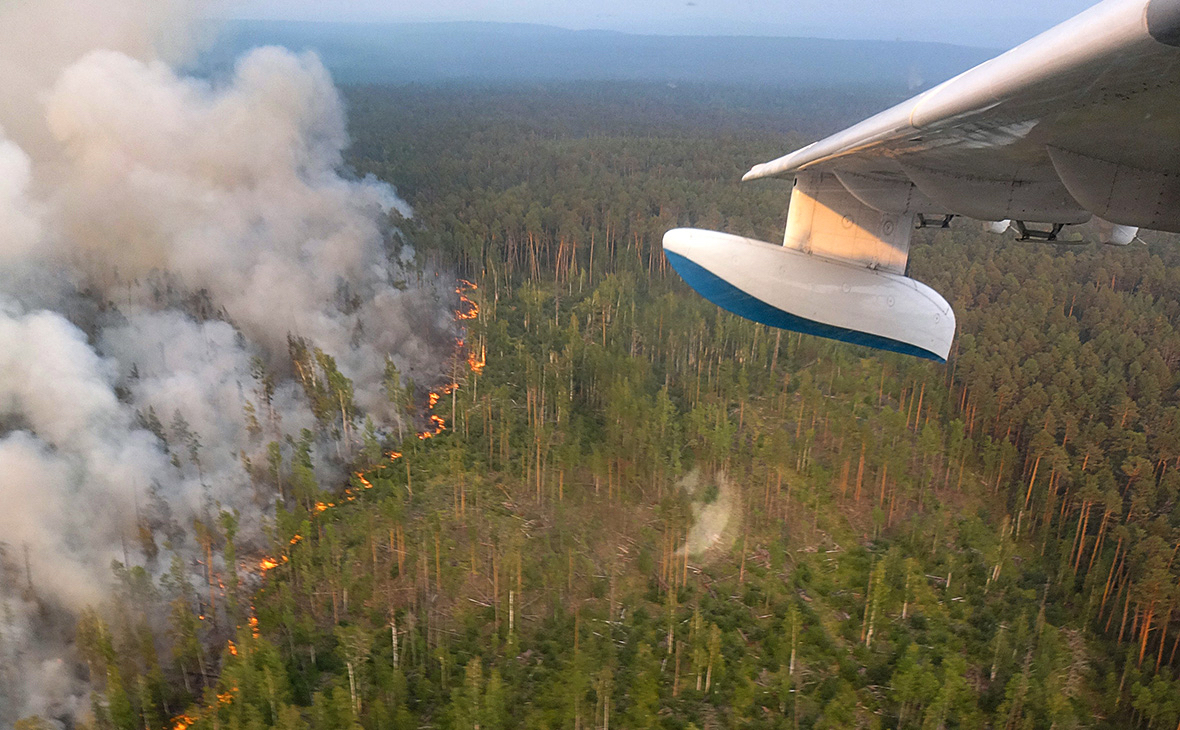fire: (137, 270, 486, 730)
